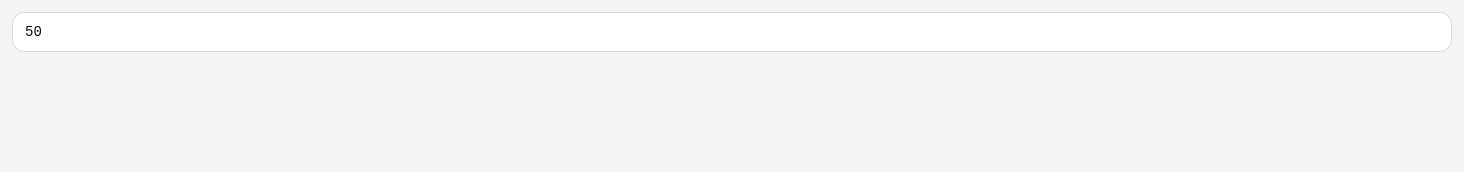
Scenario: Milestone 1 Stress Tests: Nothing UI & Shared Foundations › 1. NumberInput Adversarial & Edge Cases › reverts to fallback (or original value) on invalid NaN input or empty blur
Clear the number field: (732, 32) 12,12 -> 1452,52
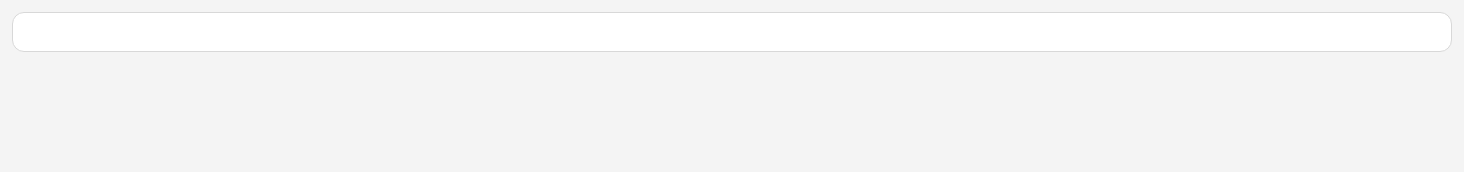
Leave the number field, box 12,12 -> 1452,52
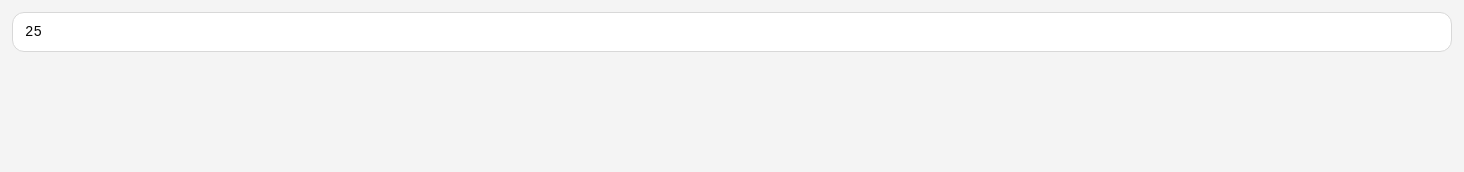
Check: the number field holds "25", box 12,12 -> 1452,52
